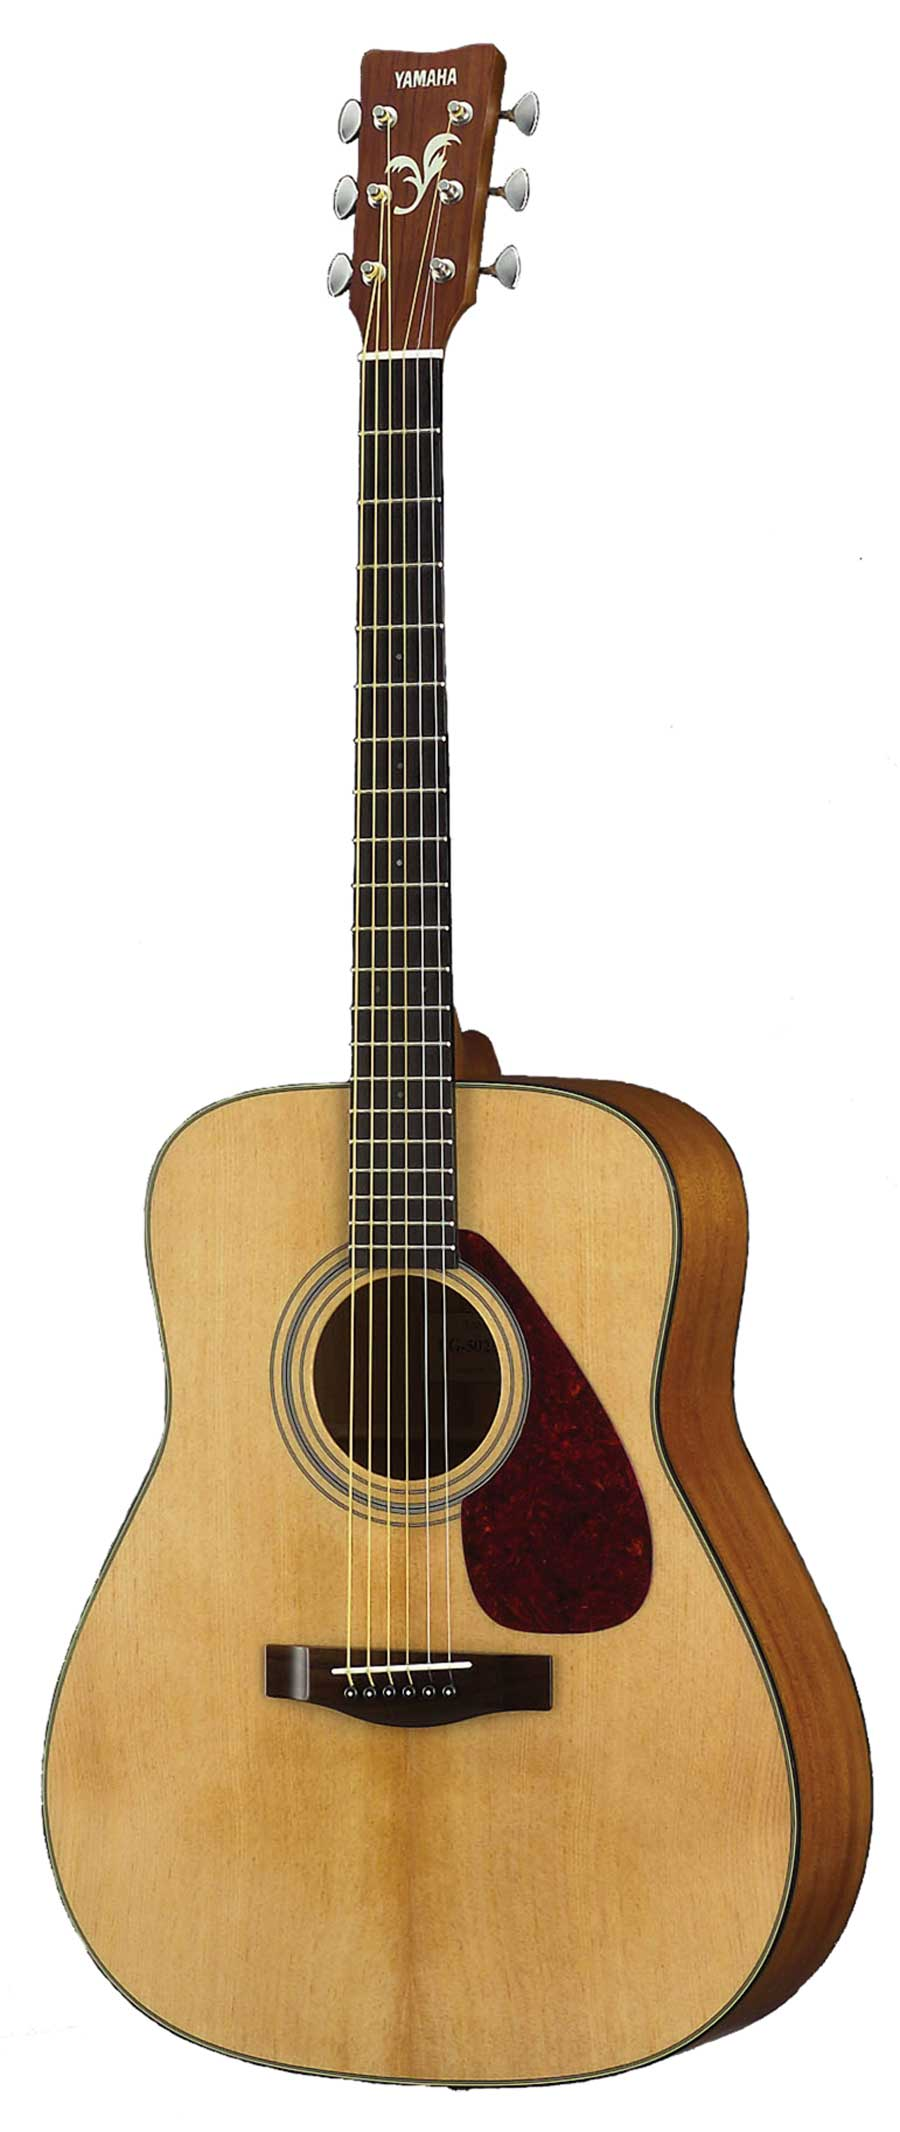guitar: (30, 45, 880, 2099)
